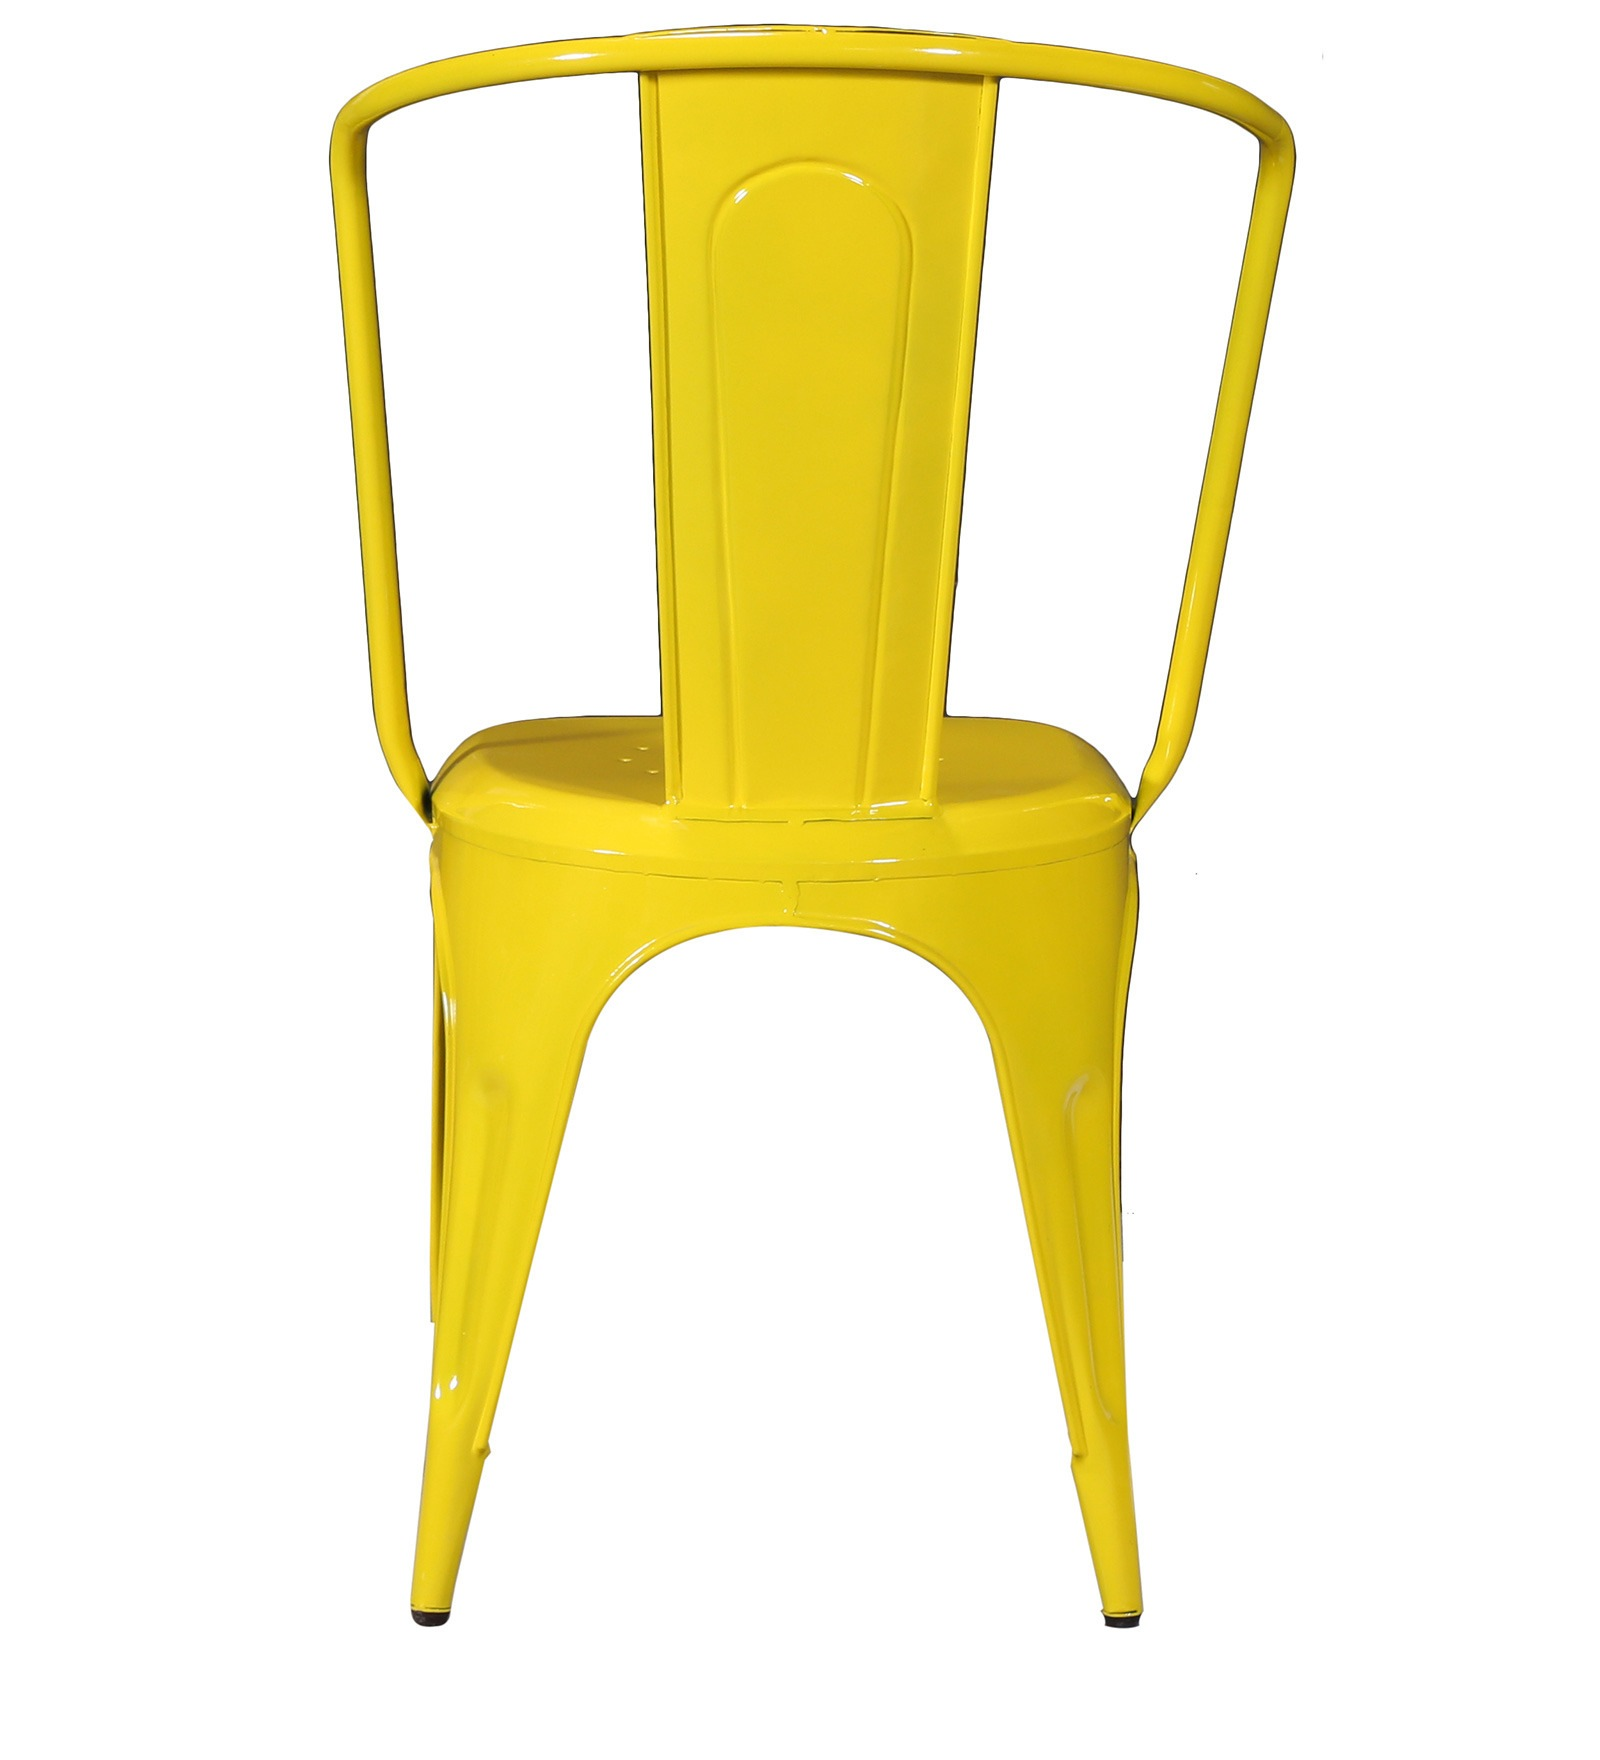Ekati Metal Chair in Yellow Color by Bohemiana: (313, 12, 1316, 1735)
